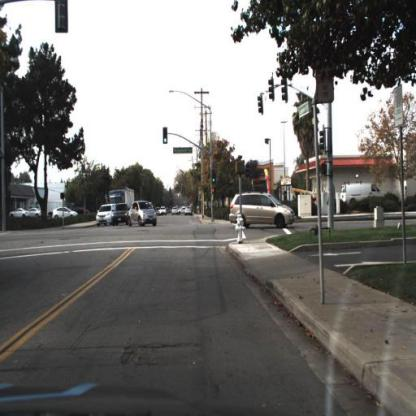car: (229, 187, 296, 231), (337, 178, 389, 210), (124, 198, 157, 227), (49, 204, 76, 223), (112, 200, 130, 228), (94, 201, 112, 228), (52, 206, 79, 222), (10, 205, 36, 218)
trafficLight-Green: (210, 165, 217, 187), (162, 126, 168, 146)
truck: (105, 189, 135, 210)
